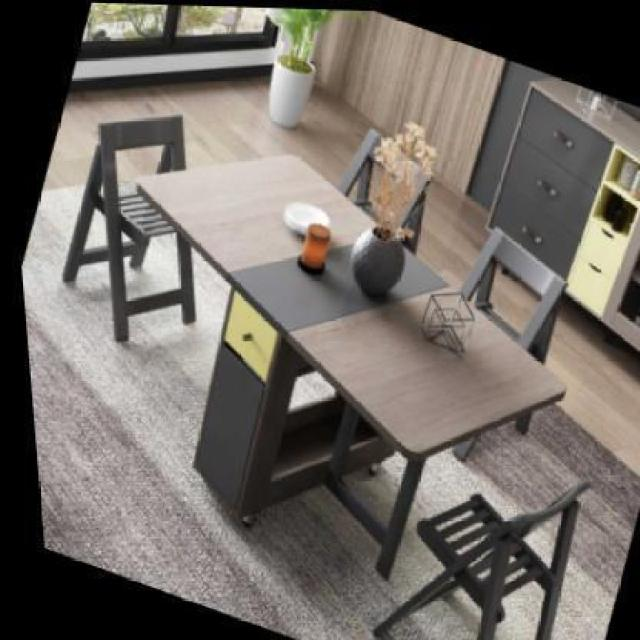tables: (134, 152, 448, 525)
